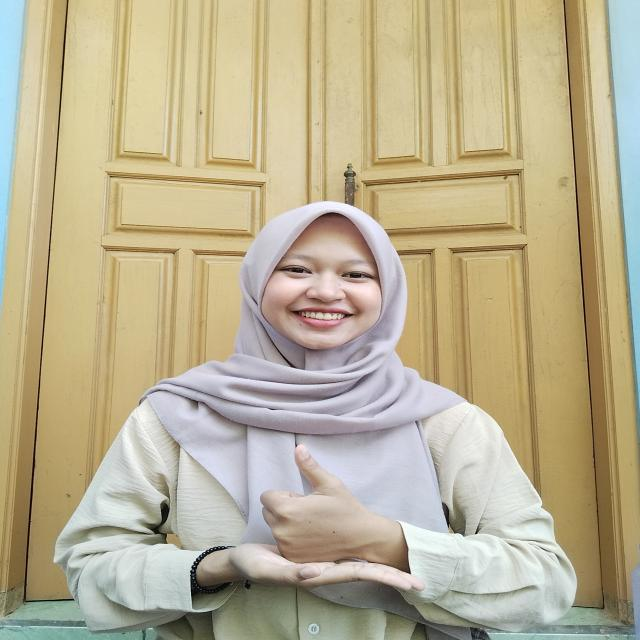cantik: (186, 433, 422, 601)
